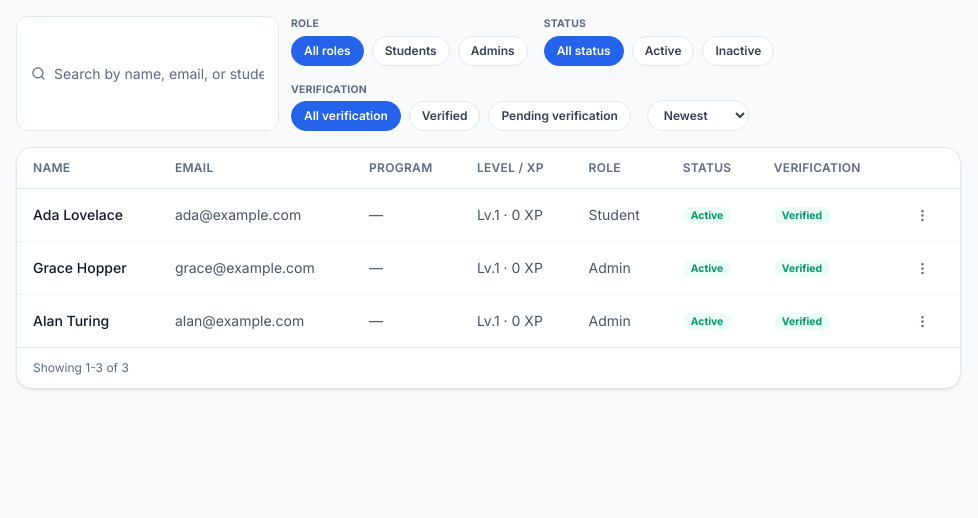
Test: AdminUsersPage — Demote to Student › offers "Demote to Student" only on an admin row that is NOT the current admin
Check: the text "Ada Lovelace" is shown, box [33,206,123,223]
Click the button named "Actions for Ada Lovelace" at (922, 215), box [908,201,936,229]
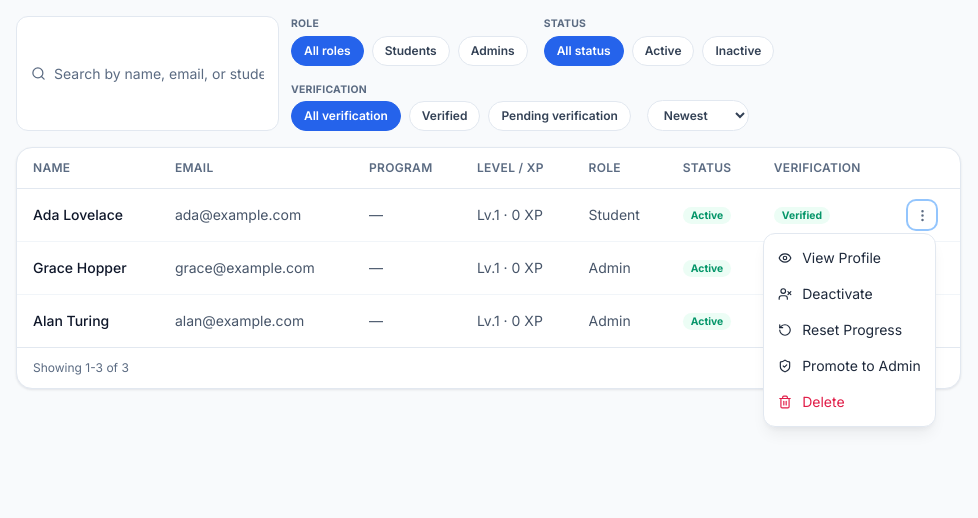
Check: the menu item "Demote to Student" is not shown
Click the button named "Actions for Ada Lovelace" at (922, 215), box [908,201,936,229]
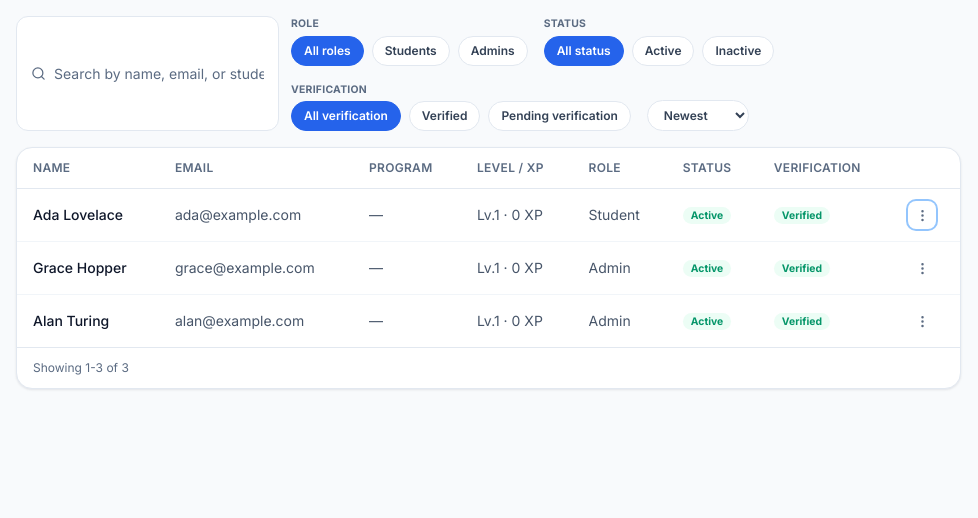
Click the button named "Actions for Grace Hopper" at (922, 268), box [908,254,936,282]
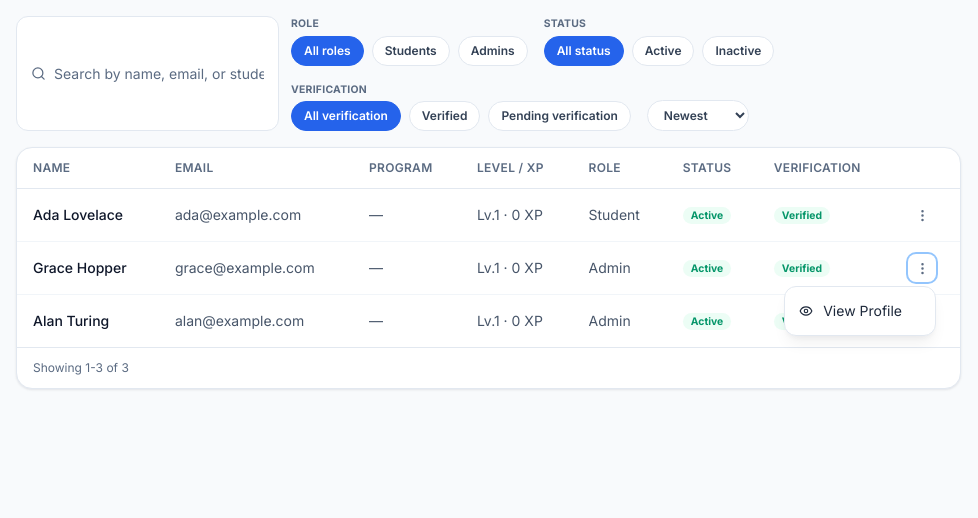
Check: the menu item "Demote to Student" is not shown
Click the button named "Actions for Grace Hopper" at (922, 268), box [908,254,936,282]
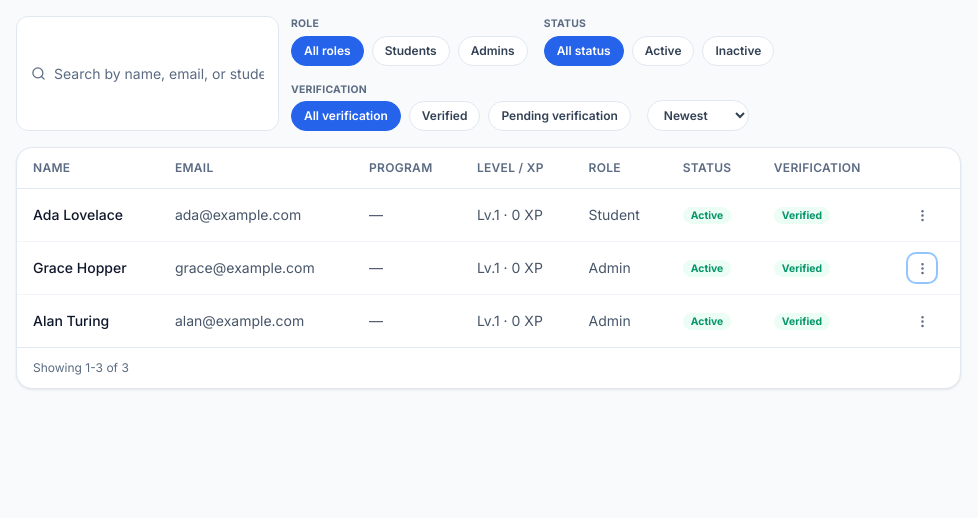
Click the button named "Actions for Alan Turing" at (922, 321), box [908,307,936,335]
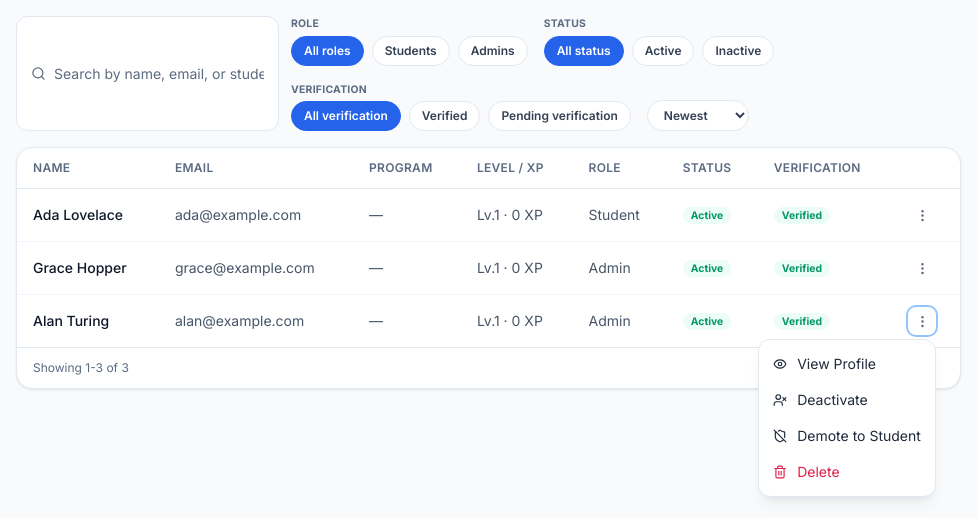
Check: the menu item "Demote to Student" is shown, box [759,418,935,454]
